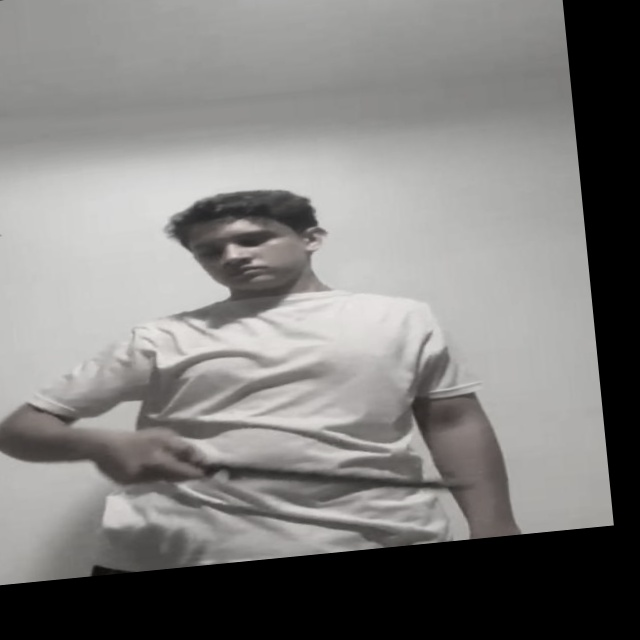Sharp-Object: (225, 445, 464, 509)
